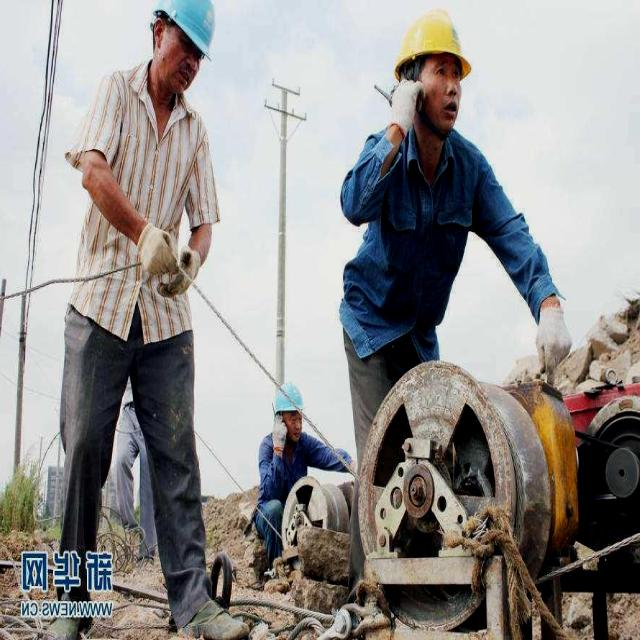face_nomask: (412, 54, 472, 140), (157, 34, 206, 100), (287, 410, 306, 445)
hand_glove: (158, 236, 208, 306), (532, 299, 578, 374), (134, 219, 182, 286), (383, 74, 426, 136), (263, 412, 290, 459)
head_helmet: (399, 12, 482, 62), (153, 0, 217, 54), (275, 378, 304, 412)
person: (69, 2, 217, 632), (340, 9, 490, 390), (247, 376, 310, 568)
shoes: (165, 586, 251, 640), (39, 577, 93, 640)
